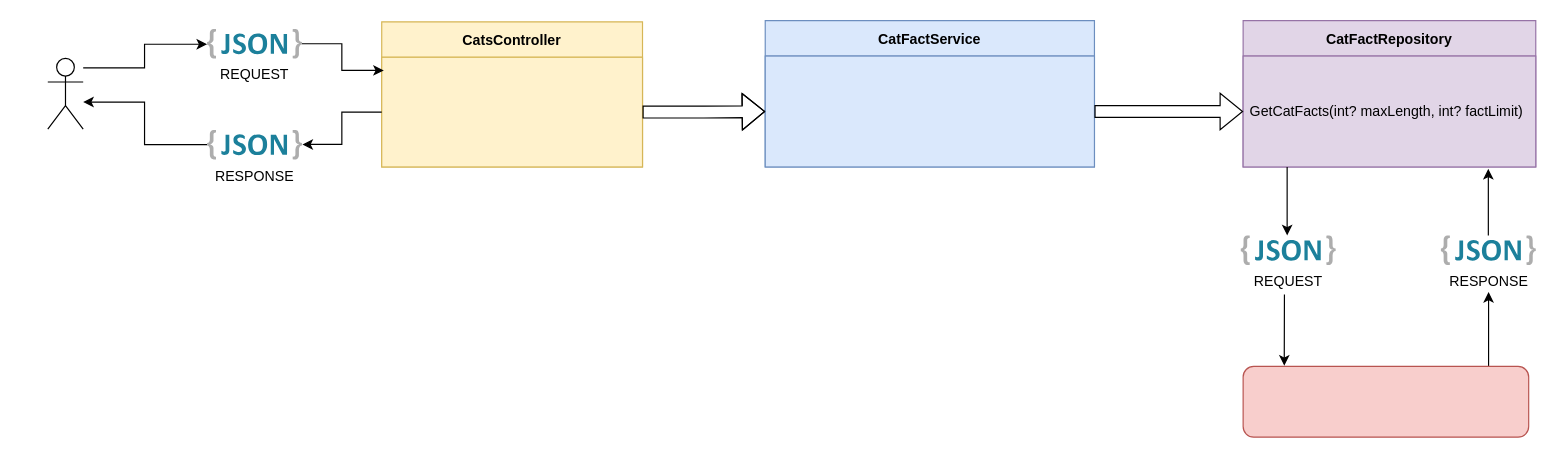
This 1556x458 diagram has some shape labels left out. The centre of each missing label's shape, as x and y in pixels:
"Cat enthusiast" goes at point 65,93.
"Cat Fact API https://catfact.ninja/facts" goes at point 1385,401.
"GET CatFacts(string name, int? maxLength, int? factLimit)" goes at point 512,111.
"GetCatFactsWithNameSubstitution(string name, int? maxLength, int? factLimit)" goes at point 929,111.
